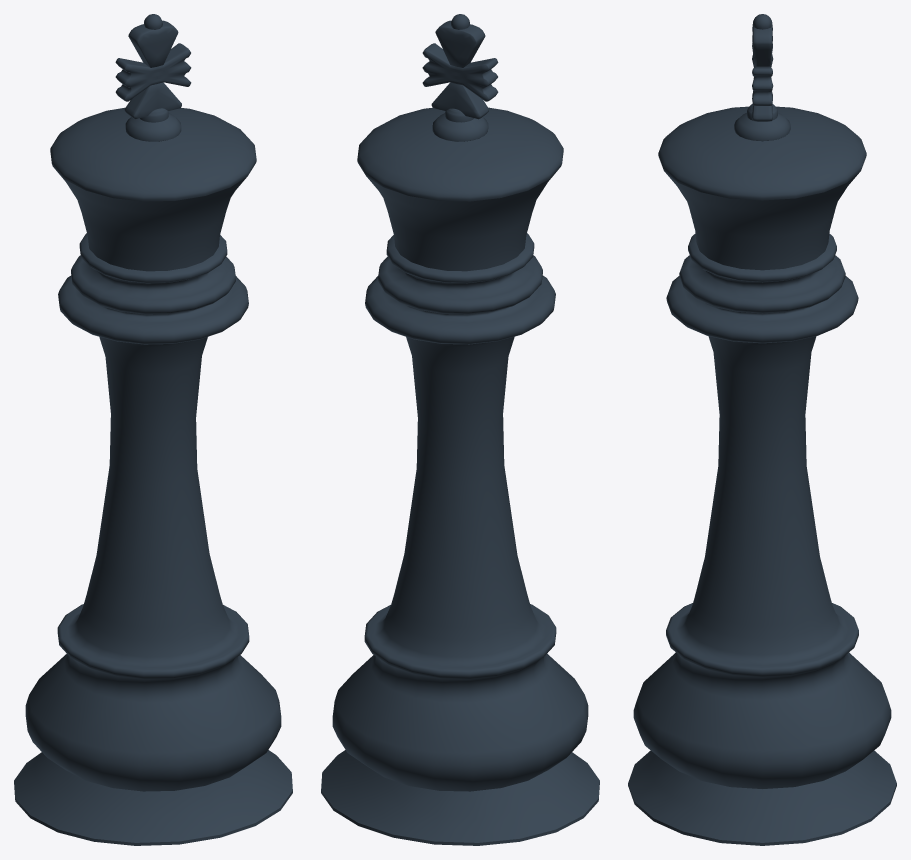
Rendered from black-king.glb.
3 renders of one model, left to right at view 1: azimuth 30°, elevation 25°; view 2: azimuth 150°, elevation 25°; view 3: azimuth 270°, elevation 25°, orthographic.
Parts seen in each view (by area): view 1: King; view 2: King; view 3: King.
Part boxes in pixels (bbox=[...]): King: bbox=[14, 14, 292, 845]; King: bbox=[321, 14, 599, 845]; King: bbox=[628, 14, 896, 845].
Bounding box in the file's own units: 0.0514 × 0.1543 × 0.0487.
